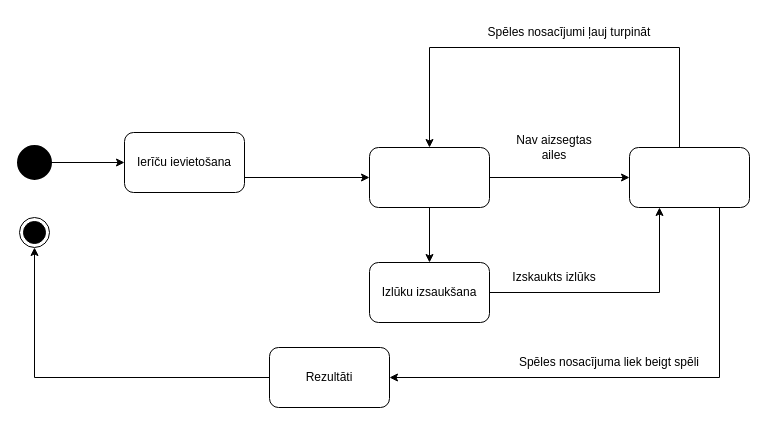
The diagram is 767 pixels wide and 425 high, and some of its shapes have lost their labels. Each missing label, with the box of its shape:
Ierīču koriģēšana: (368, 146, 490, 208)
Uguņošana: (628, 146, 750, 208)
